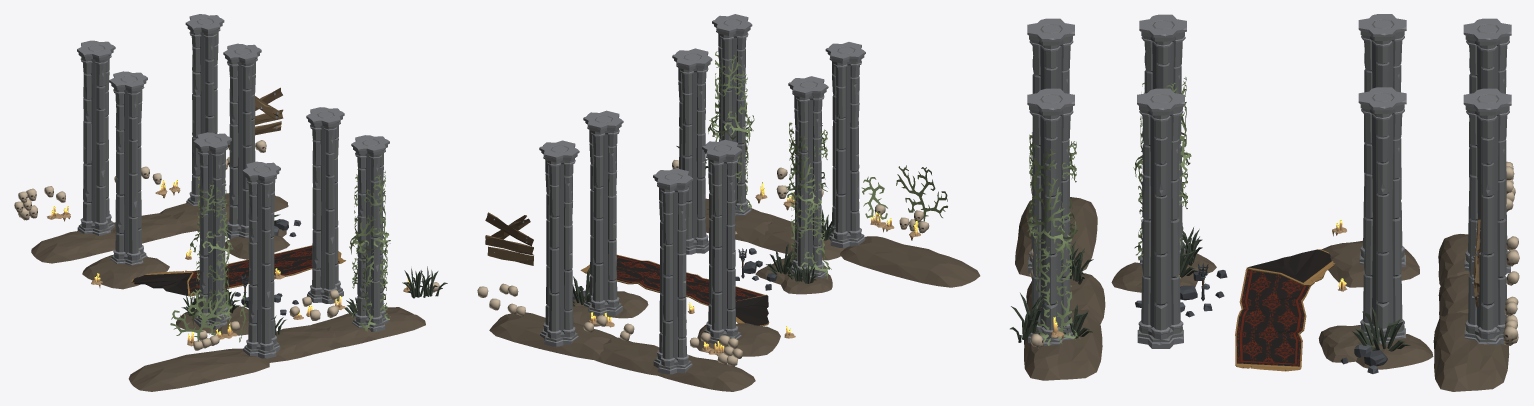
File: crypt_nave_bay_lite.gltf
3 renders of one model, left to right at view 1: azimuth 30°, elevation 25°; view 2: azimuth 150°, elevation 25°; view 3: azimuth 270°, elevation 25°, orthographic. The views are drawn at different scales.
Visible parts, largest first — view 1: crypt_nave_bay_lite; view 2: crypt_nave_bay_lite; view 3: crypt_nave_bay_lite.
Part boxes in pixels (<box>): crypt_nave_bay_lite: <box>14,14,447,391</box>; crypt_nave_bay_lite: <box>477,14,980,391</box>; crypt_nave_bay_lite: <box>1010,14,1519,391</box>.
Size of what is drawn, in the model's own units: 10.66 by 6.22 by 11.55.
Materials: 2 (2 with a texture image).
